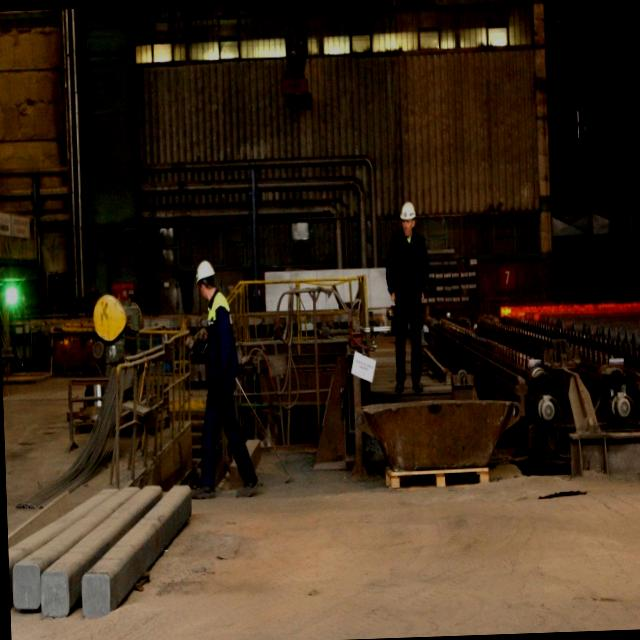helmet: (191, 258, 216, 293), (397, 200, 417, 233)
no-vest: (196, 296, 244, 391), (386, 230, 429, 310)
